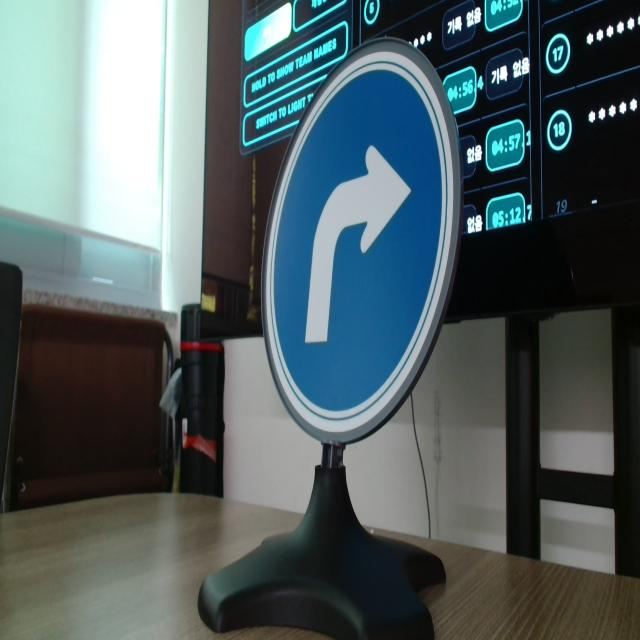right_dierection: (256, 31, 460, 438)
